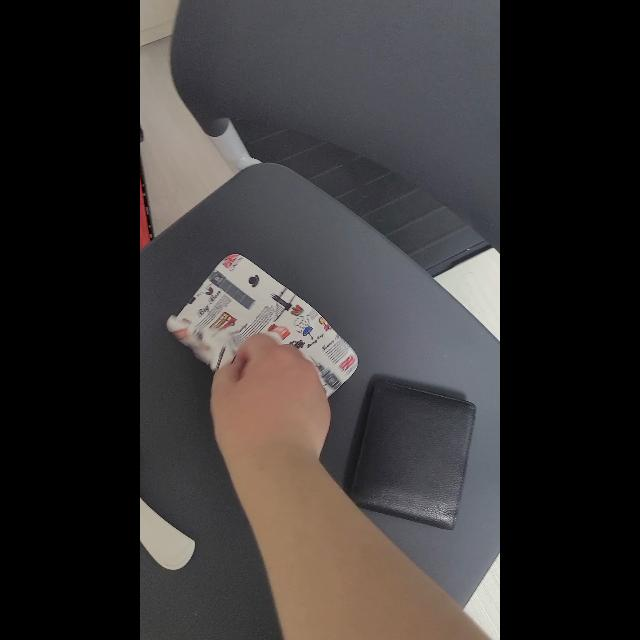COMB: (140, 496, 194, 568)
Glasses cleaning cloth: (166, 254, 358, 398)
WALLET: (348, 380, 476, 530)
